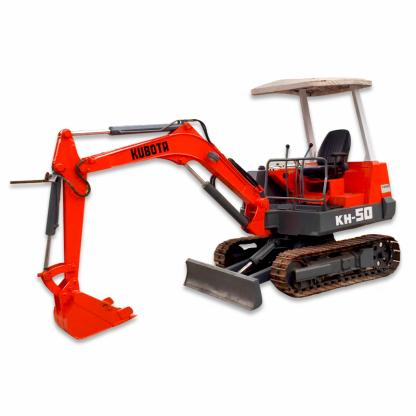excavator: (40, 52, 415, 346)
